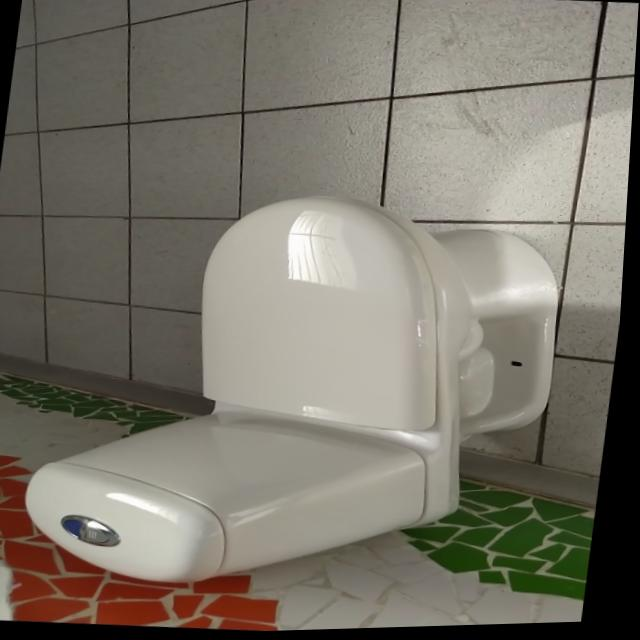toilet: (19, 173, 580, 613)
